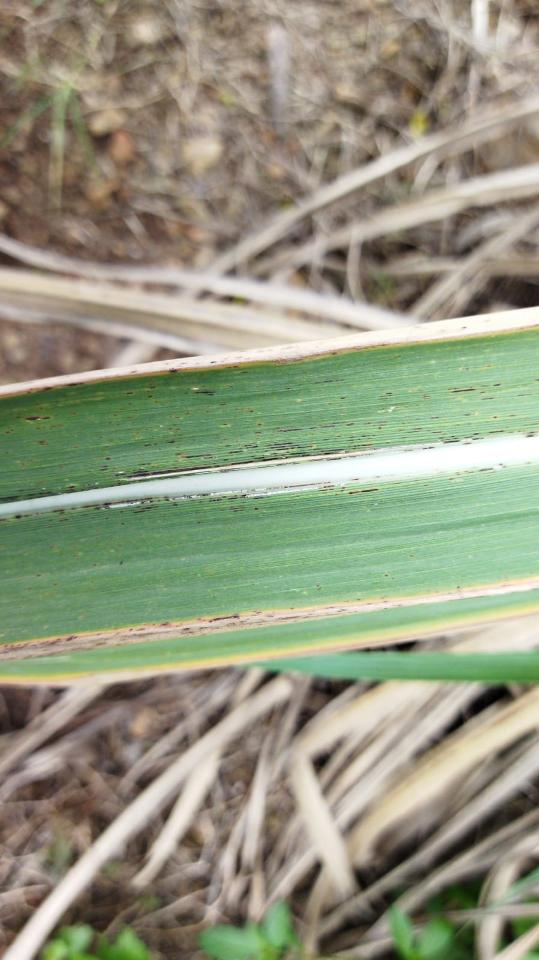Rust: (0, 406, 539, 505), (0, 593, 422, 662), (0, 341, 412, 399), (0, 475, 386, 527), (143, 401, 267, 451), (104, 379, 161, 429), (1, 407, 67, 438), (447, 461, 509, 482), (444, 380, 505, 396), (182, 382, 237, 399), (311, 377, 347, 386), (377, 390, 395, 403), (419, 394, 434, 401)
